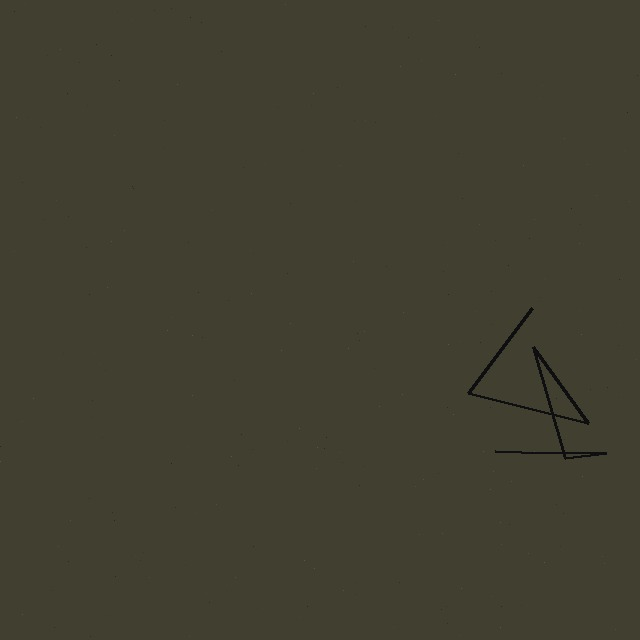crocodile_crack: (452, 286, 610, 465)
